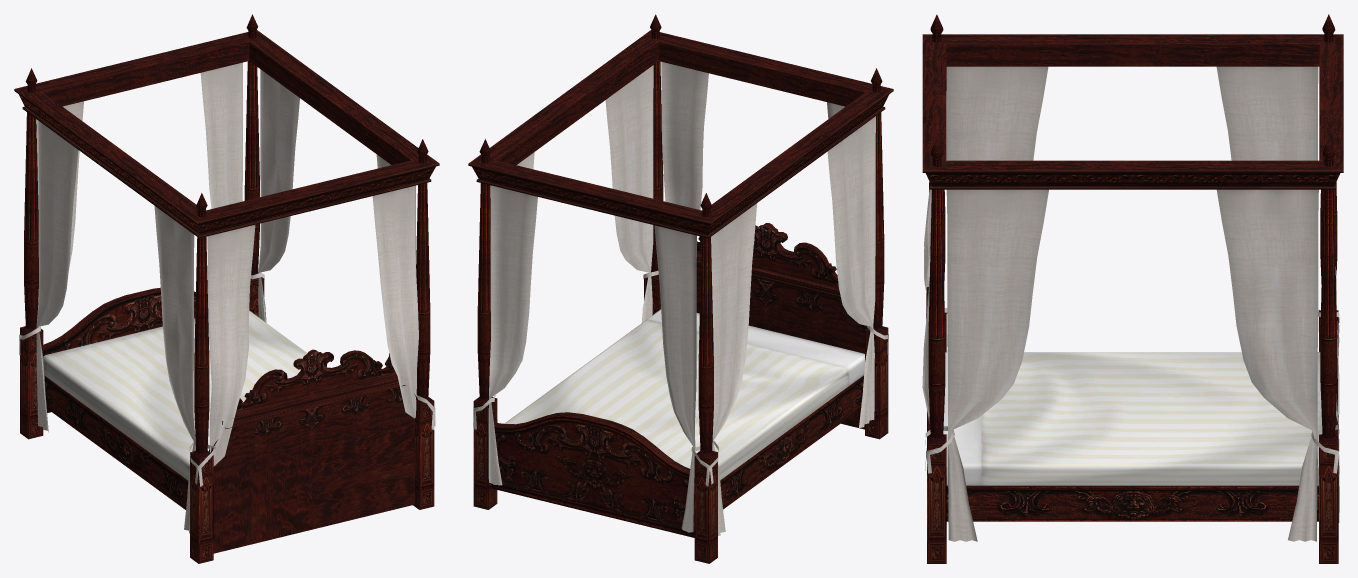
File: bed_merovingian_cin21.fbx
The picture shows the model from 3 angles, left to right: view 1: azimuth 30°, elevation 25°; view 2: azimuth 150°, elevation 25°; view 3: azimuth 270°, elevation 25°; orthographic projection. The views are drawn at different scales.
Parts seen in each view (by area): view 1: mesh_15, mesh_1, mesh_12, mesh_4, mesh_16, mesh_5, mesh_0, mesh_9, mesh_11, mesh_7, mesh_8, mesh_3 (+2 smaller); view 2: mesh_15, mesh_12, mesh_4, mesh_0, mesh_16, mesh_1, mesh_5, mesh_11, mesh_3, mesh_10, mesh_9, mesh_2 (+2 smaller); view 3: mesh_15, mesh_4, mesh_12, mesh_16, mesh_5, mesh_7, mesh_3, mesh_2, mesh_6, mesh_11, mesh_9.
Boxes of the visible parts, <box> form: mesh_15: <box>36,62,418,533</box>; mesh_1: <box>209,349,418,553</box>; mesh_12: <box>14,30,439,238</box>; mesh_4: <box>43,311,307,480</box>; mesh_16: <box>37,63,418,529</box>; mesh_5: <box>44,375,188,509</box>; mesh_0: <box>43,287,195,412</box>; mesh_9: <box>193,193,209,456</box>; mesh_11: <box>23,68,38,332</box>; mesh_7: <box>416,139,430,403</box>; mesh_8: <box>190,451,213,563</box>; mesh_3: <box>244,14,259,275</box>; mesh_15: <box>488,62,875,535</box>; mesh_12: <box>468,30,893,238</box>; mesh_4: <box>504,309,864,479</box>; mesh_0: <box>491,412,694,537</box>; mesh_16: <box>488,63,875,535</box>; mesh_1: <box>696,223,867,429</box>; mesh_5: <box>720,375,863,509</box>; mesh_11: <box>698,193,714,457</box>; mesh_3: <box>477,139,492,403</box>; mesh_10: <box>694,451,717,563</box>; mesh_9: <box>868,68,884,332</box>; mesh_2: <box>473,397,497,509</box>; mesh_15: <box>922,66,1339,541</box>; mesh_4: <box>943,352,1322,485</box>; mesh_12: <box>922,34,1343,189</box>; mesh_16: <box>923,66,1339,540</box>; mesh_5: <box>946,485,1318,521</box>; mesh_7: <box>927,138,946,442</box>; mesh_3: <box>1319,138,1338,442</box>; mesh_2: <box>1319,434,1338,563</box>; mesh_6: <box>927,434,946,563</box>; mesh_11: <box>1320,14,1337,312</box>; mesh_9: <box>929,14,946,316</box>.
Size of the model in its own units: 198 by 285 by 258.
3 materials, 3 textured.
